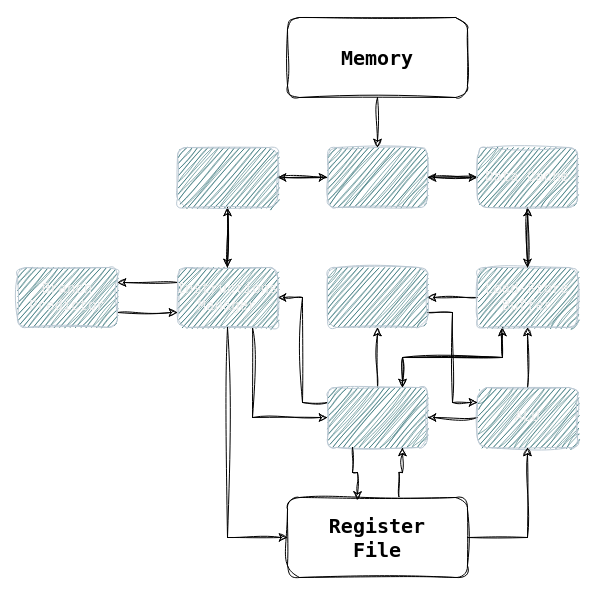
Some shapes in this 595 by 595 pixel diagram are drawn without their labels. Each missing label, with the box of its shape:
Instruction Cache: (176, 146, 278, 208)
Memory I/O Controller: (326, 146, 428, 208)
ReOrder Buffer: (326, 386, 428, 448)
Reservation Station: (326, 266, 428, 328)
